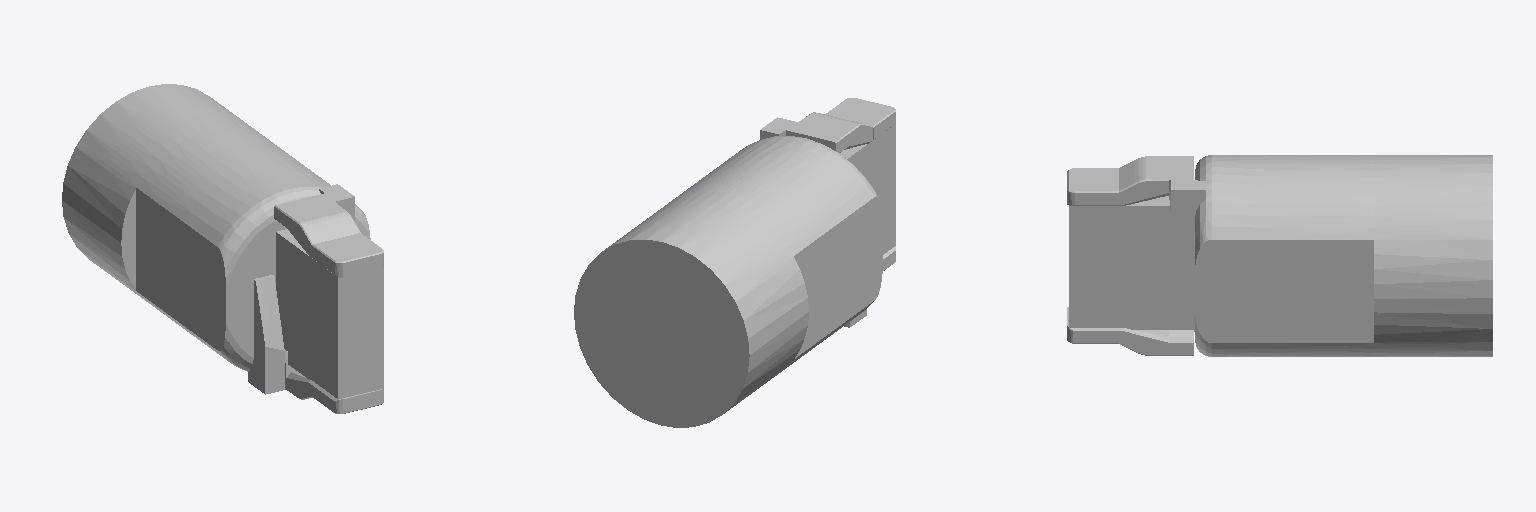
File: gripper_enclosed.obj
3 views of the same model, side by side, from view 1: azimuth 30°, elevation 25°; view 2: azimuth 150°, elevation 25°; view 3: azimuth 270°, elevation 25° (orthographic).
Parts seen in each view (by area): view 1: Robotiq_Hande_Finger_C01; view 2: Robotiq_Hande_Finger_C01; view 3: Robotiq_Hande_Finger_C01.
Boxes of the visible parts, x1=… form: Robotiq_Hande_Finger_C01: x1=62, y1=84, x2=383, y2=413; Robotiq_Hande_Finger_C01: x1=574, y1=98, x2=895, y2=427; Robotiq_Hande_Finger_C01: x1=1067, y1=155, x2=1492, y2=356.
Size of the model in its own units: 0.075 by 0.075 by 0.1571.